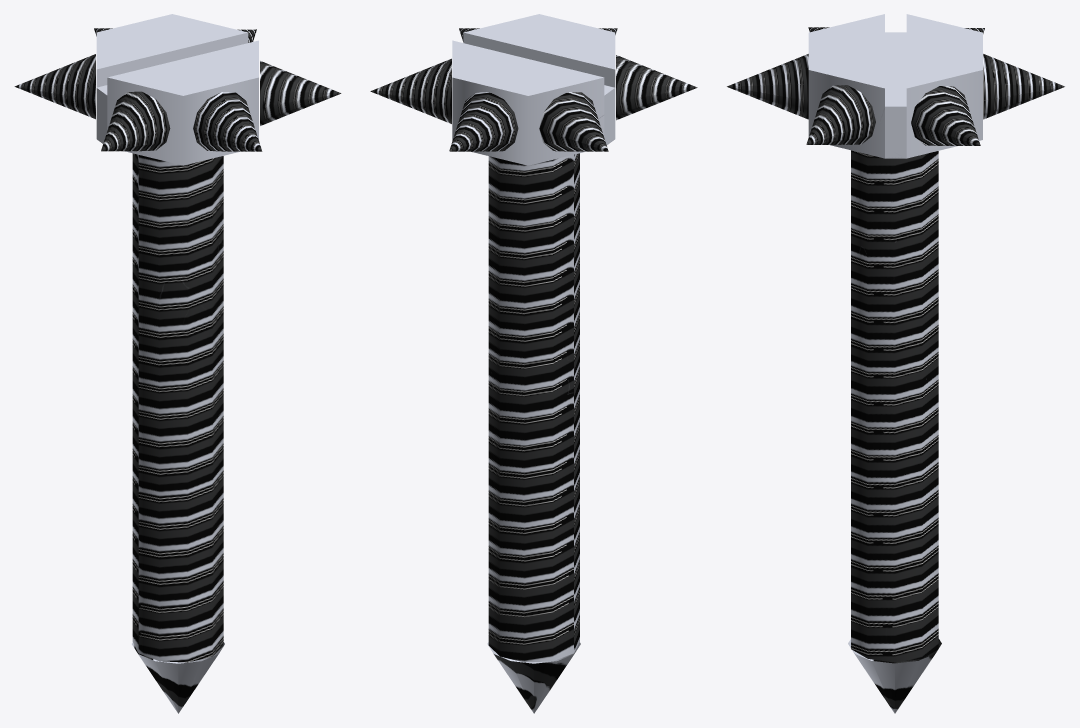
File: SCHROEF WAPEN.FBX
3 renders of one model, left to right at view 1: azimuth 30°, elevation 25°; view 2: azimuth 150°, elevation 25°; view 3: azimuth 270°, elevation 25°, orthographic.
Parts seen in each view (by area): view 1: Cylinder053; view 2: Cylinder053; view 3: Cylinder053.
Part boxes in pixels (x1,y1,x2,y2): Cylinder053: (14, 14, 341, 713); Cylinder053: (370, 14, 697, 713); Cylinder053: (727, 14, 1064, 713).
Bounding box in the file's own units: 66.66 × 173 × 80.45.
